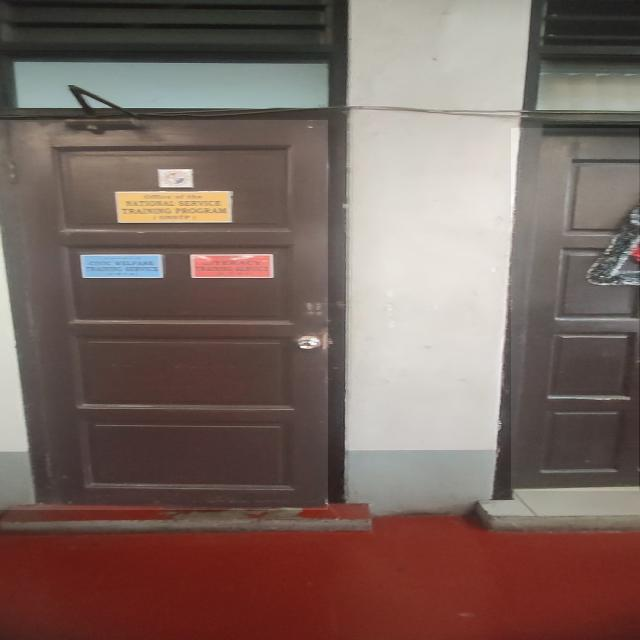door: (0, 121, 328, 510), (511, 128, 640, 491)
